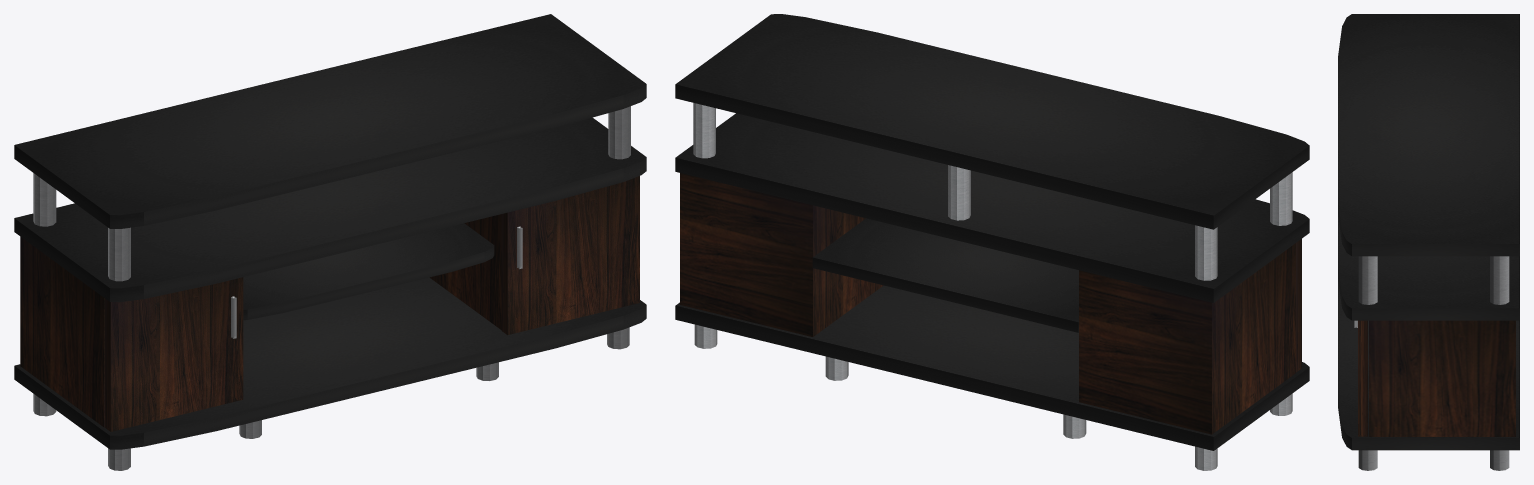
Rendered from TVStandFinal.fbx.
3 renders of one model, left to right at view 1: azimuth 30°, elevation 25°; view 2: azimuth 150°, elevation 25°; view 3: azimuth 270°, elevation 25°, orthographic. The views are drawn at different scales.
Visible parts, largest first — view 1: Base01, Base02, Base03, Door01, Door02, Base04, Cabinet01, Cabinet02, Support02, Support03, Support01; view 2: Base01, Base02, Cabinet01, Base03, Cabinet02, Base04, Support01, Support04, Support05, Support02, Door01; view 3: Base01, Cabinet02, Base02, Base03, Door02, Support03, Support04, Support08, Support09.
Part boxes in pixels (x1=…): Base01: x1=14, y1=14, x2=646, y2=228; Base02: x1=14, y1=117, x2=646, y2=302; Base03: x1=14, y1=277, x2=646, y2=449; Door01: x1=105, y1=277, x2=243, y2=431; Door02: x1=501, y1=176, x2=639, y2=335; Base04: x1=243, y1=223, x2=494, y2=320; Cabinet01: x1=20, y1=236, x2=104, y2=427; Cabinet02: x1=429, y1=214, x2=501, y2=329; Support02: x1=108, y1=227, x2=130, y2=281; Support03: x1=608, y1=106, x2=630, y2=159; Support01: x1=33, y1=173, x2=56, y2=226; Base01: x1=675, y1=14, x2=1309, y2=229; Base02: x1=675, y1=113, x2=1309, y2=302; Cabinet01: x1=1079, y1=243, x2=1295, y2=434; Base03: x1=675, y1=285, x2=1309, y2=450; Cabinet02: x1=680, y1=173, x2=883, y2=336; Base04: x1=812, y1=218, x2=1078, y2=332; Support01: x1=1195, y1=225, x2=1217, y2=280; Support04: x1=693, y1=103, x2=715, y2=158; Support05: x1=948, y1=165, x2=970, y2=220; Support02: x1=1270, y1=172, x2=1292, y2=225; Door01: x1=1296, y1=239, x2=1301, y2=372; Base01: x1=1338, y1=14, x2=1519, y2=256; Cabinet02: x1=1369, y1=320, x2=1515, y2=436; Base02: x1=1338, y1=215, x2=1519, y2=320; Base03: x1=1338, y1=279, x2=1519, y2=450; Door02: x1=1358, y1=320, x2=1367, y2=436; Support03: x1=1358, y1=256, x2=1377, y2=304; Support04: x1=1490, y1=256, x2=1509, y2=304; Support08: x1=1358, y1=450, x2=1377, y2=470; Support09: x1=1490, y1=450, x2=1509, y2=470.
Bounding box in the file's own units: 8.1 × 3.79 × 2.7.
